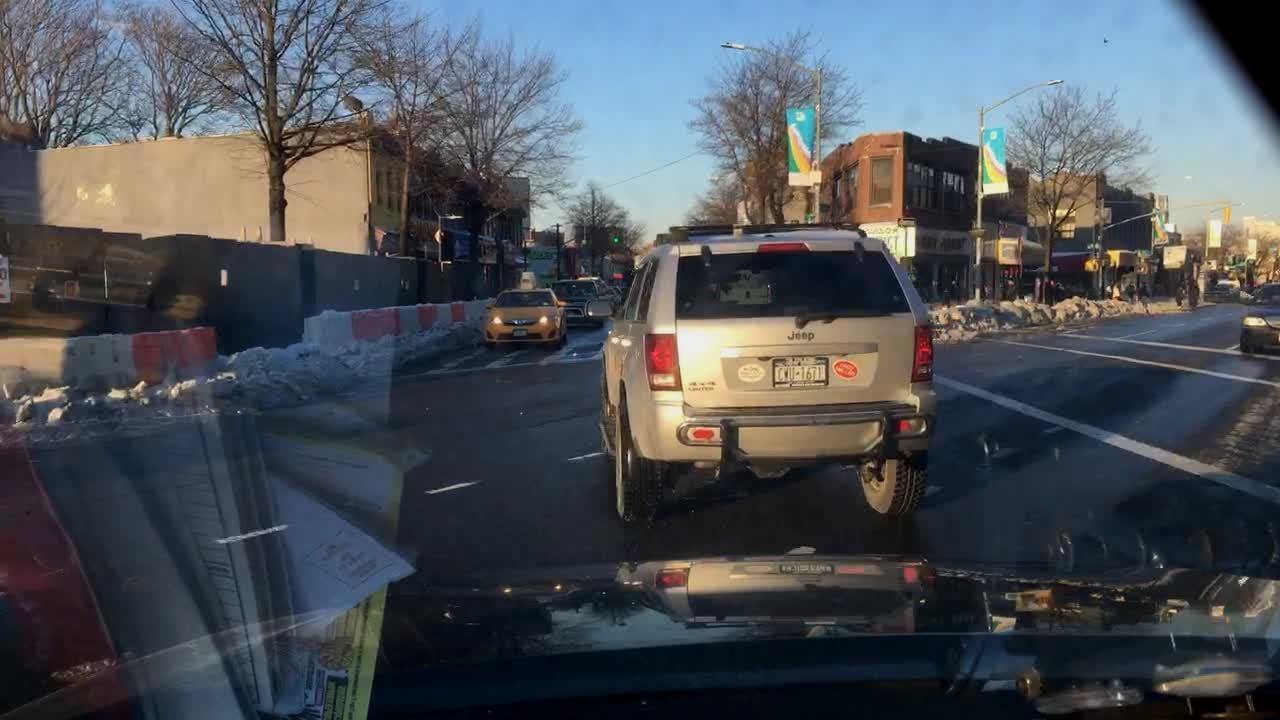jeep: (780, 326, 829, 347)
